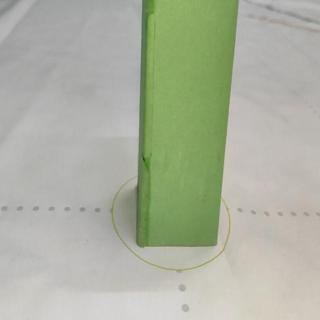greenbox: (139, 1, 240, 251)
